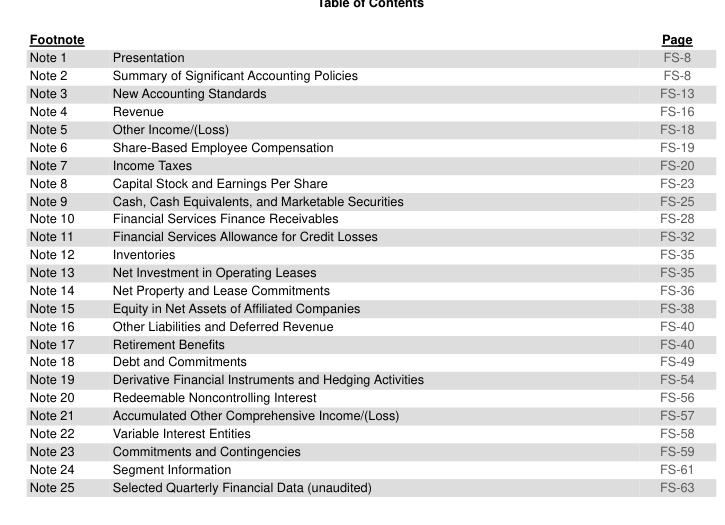table: (28, 29, 693, 494)
table column: (97, 29, 540, 494), (540, 29, 693, 494), (28, 29, 97, 494)
table column header: (28, 29, 693, 65)
table row: (28, 29, 693, 65), (28, 65, 693, 83), (28, 83, 693, 101), (28, 101, 693, 119), (28, 136, 693, 154), (28, 154, 693, 172), (28, 172, 693, 190), (28, 190, 693, 208), (28, 208, 693, 226), (28, 226, 693, 244), (28, 244, 693, 262), (28, 262, 693, 280), (28, 297, 693, 315), (28, 315, 693, 333), (28, 333, 693, 351), (28, 351, 693, 369), (28, 369, 693, 387), (28, 387, 693, 405), (28, 405, 693, 423), (28, 440, 693, 458), (28, 458, 693, 476), (28, 476, 693, 494), (28, 119, 693, 136), (28, 280, 693, 297), (28, 423, 693, 440)
